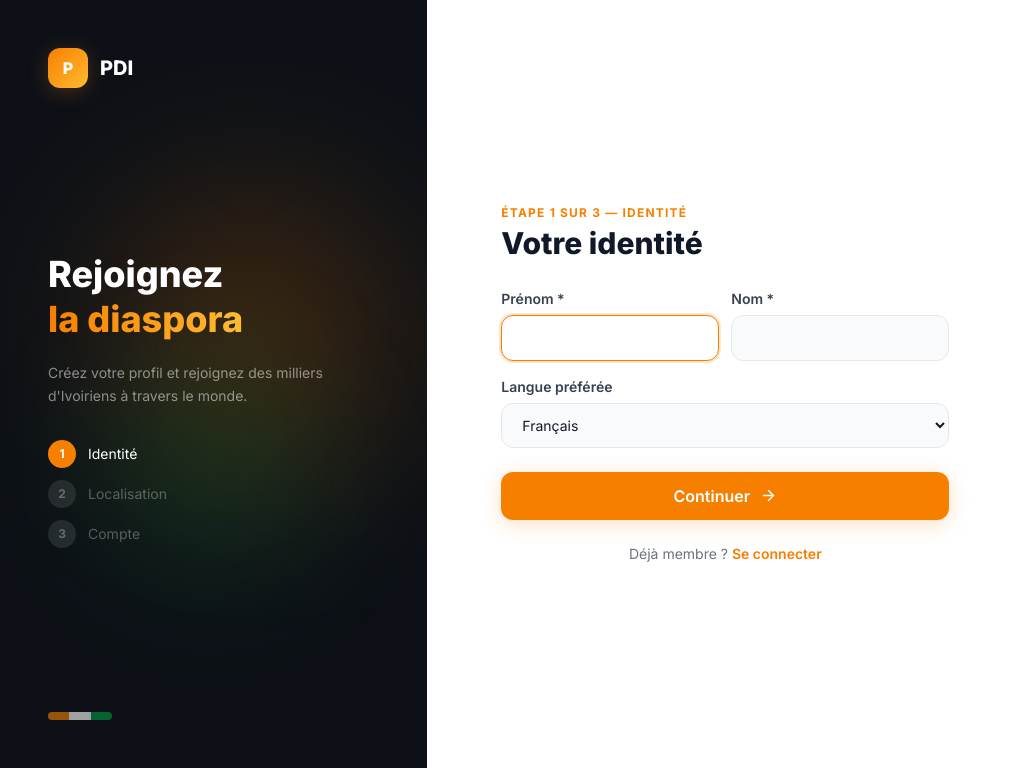
it: RegisterPage › shows error when first name and last name are empty
Click the button "Continuer" at (725, 496), box [501,472,949,520]
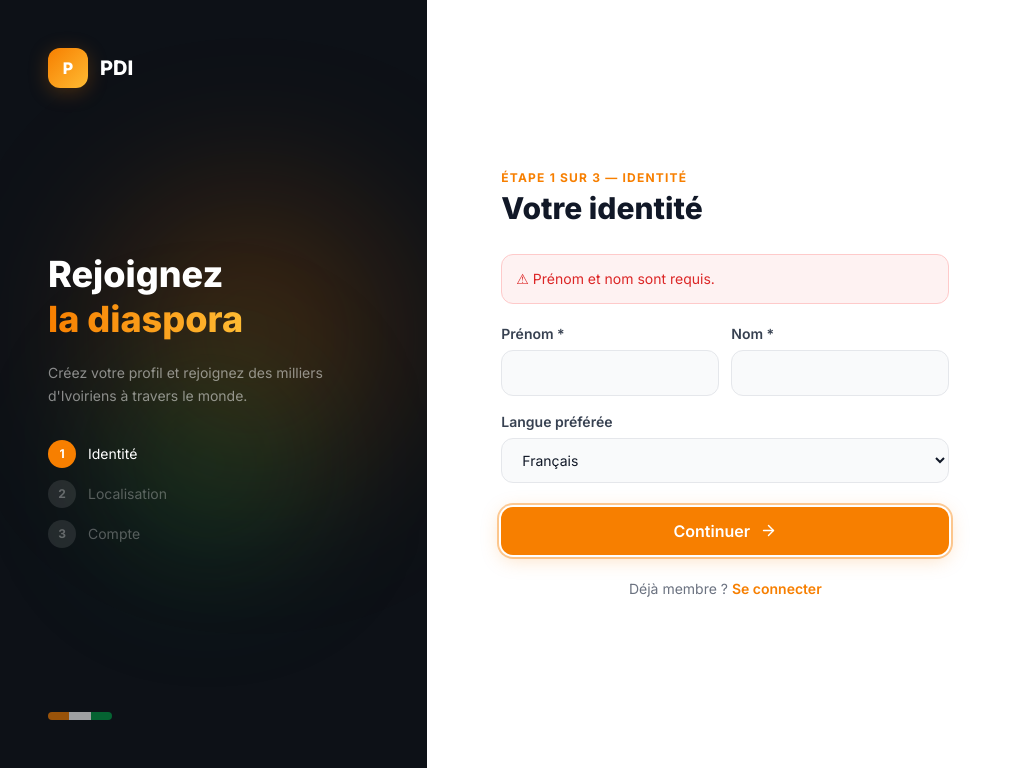
Now the message shows "Prénom et nom sont requis.", box [533,270,715,286]
